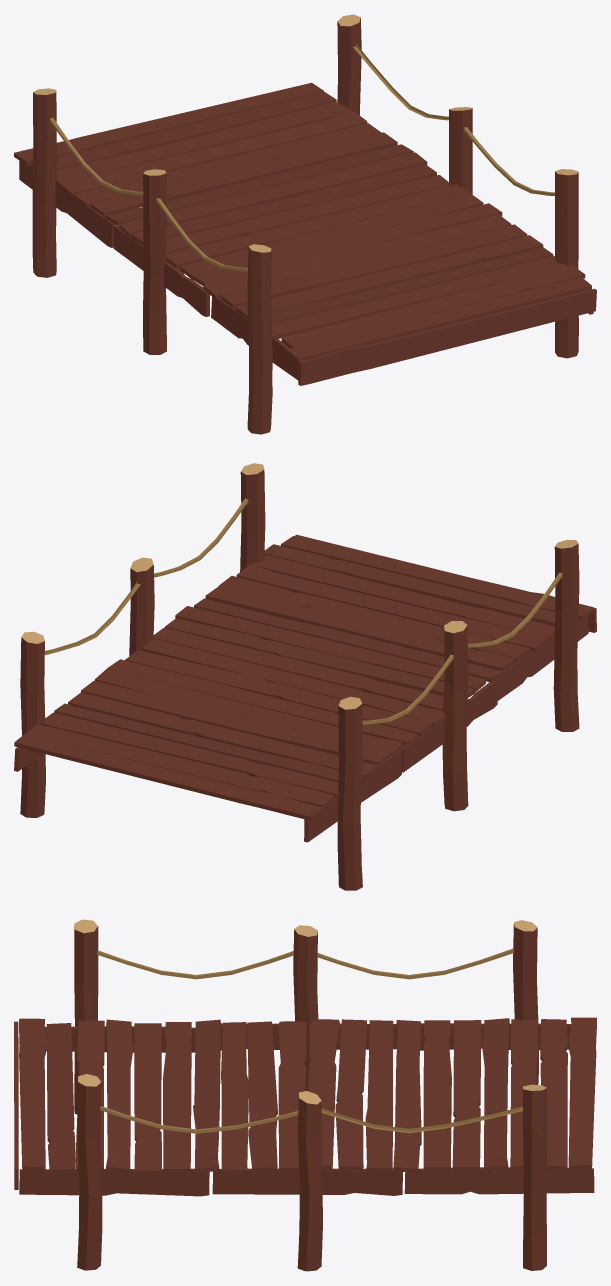
Rendered from dock_wide.glb.
3 views of the same model, one above another, from view 1: azimuth 30°, elevation 25°; view 2: azimuth 150°, elevation 25°; view 3: azimuth 270°, elevation 25° (orthographic). The views are drawn at different scales.
Parts seen in each view (by area): view 1: Dock_Wide; view 2: Dock_Wide; view 3: Dock_Wide.
Part boxes in pixels (x1=…): Dock_Wide: x1=14, y1=14, x2=596, y2=434; Dock_Wide: x1=14, y1=463, x2=596, y2=890; Dock_Wide: x1=14, y1=919, x2=596, y2=1271.
Bounding box in the file's own units: 3.52 × 1.85 × 5.22.
